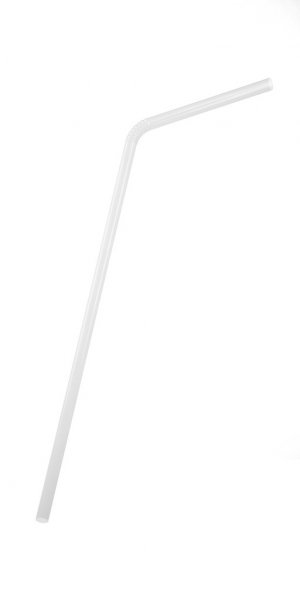Drinking Straw: (31, 75, 276, 527)
